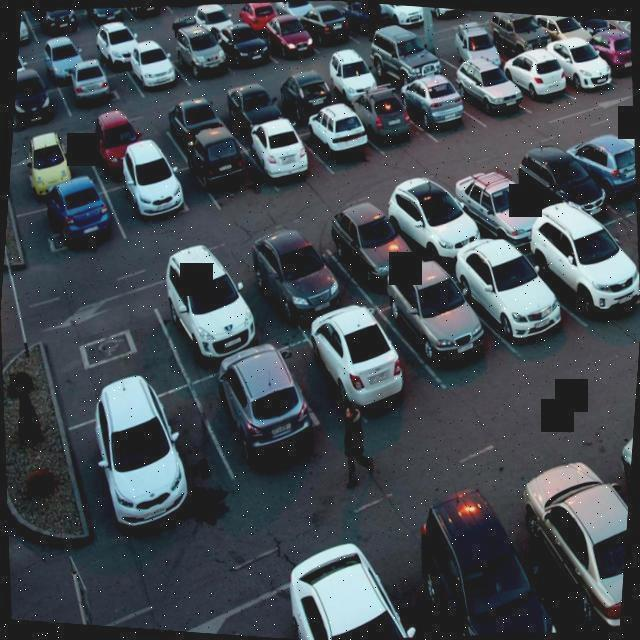space-empty: (49, 288, 182, 416), (134, 13, 183, 63), (309, 0, 348, 14)
space-occupied: (74, 380, 206, 534), (294, 299, 427, 429), (212, 334, 315, 476), (450, 239, 563, 359), (147, 263, 262, 377), (531, 218, 640, 328), (232, 223, 354, 321), (392, 267, 491, 369), (386, 169, 487, 266), (329, 199, 424, 291), (548, 118, 640, 211), (28, 177, 120, 267), (111, 154, 204, 239), (514, 143, 608, 217), (457, 173, 541, 253), (76, 108, 168, 178), (491, 44, 579, 117), (394, 65, 480, 138), (184, 124, 262, 201), (154, 87, 239, 157), (298, 96, 380, 166), (358, 25, 443, 91), (243, 115, 320, 187), (317, 41, 392, 112), (9, 142, 89, 208), (161, 19, 235, 90), (547, 32, 617, 106), (450, 55, 527, 122), (273, 56, 343, 128), (216, 10, 284, 80), (352, 82, 424, 148), (437, 13, 502, 78), (220, 74, 286, 138), (65, 47, 131, 111), (124, 35, 190, 99), (260, 0, 324, 66), (38, 20, 99, 83), (477, 11, 550, 63), (12, 77, 64, 141), (294, 0, 358, 52), (581, 22, 635, 80), (90, 10, 144, 66), (336, 1, 392, 42), (31, 5, 89, 44), (192, 0, 239, 46), (373, 3, 434, 34), (238, 0, 279, 39), (15, 45, 46, 96), (415, 6, 477, 28), (82, 3, 131, 29), (266, 0, 311, 25), (121, 2, 170, 23), (18, 12, 39, 58), (164, 2, 203, 19)
